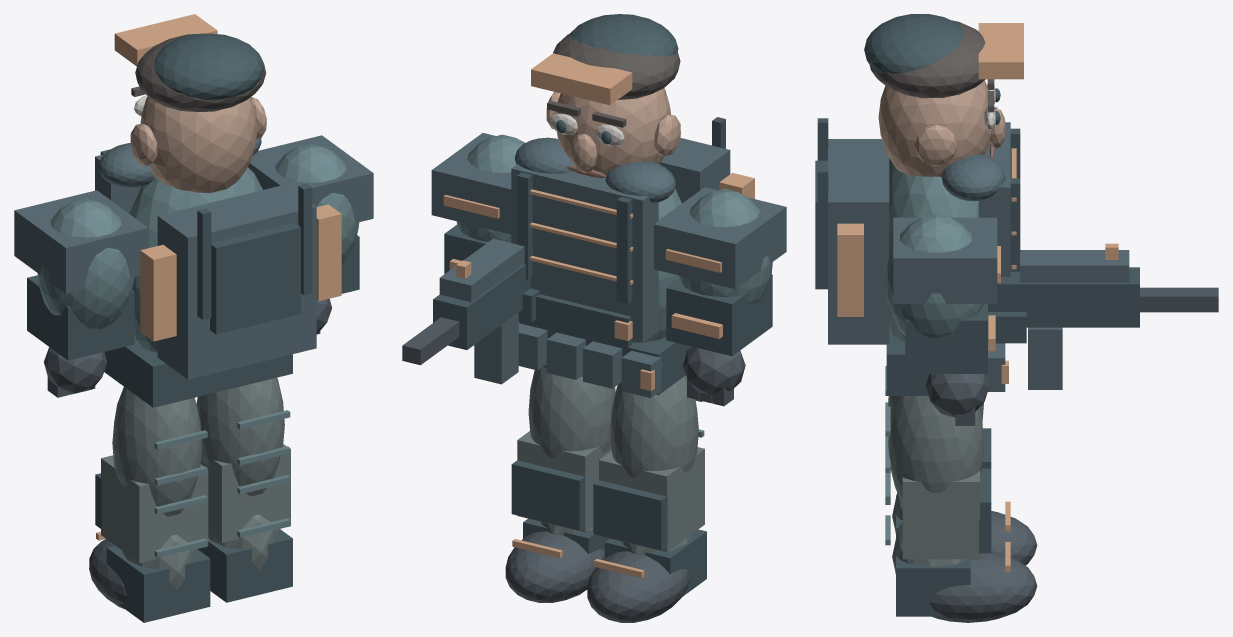
File: rift.glb
3 renders of one model, left to right at view 1: azimuth 30°, elevation 25°; view 2: azimuth 150°, elevation 25°; view 3: azimuth 270°, elevation 25°, orthographic.
Visible parts, largest first — view 1: RigRoot_Model, LeftLegPivot_Model, HeadPivot_Model, LeftArmPivot_Model, RightLegPivot_Model, RightArmPivot_Model; view 2: RigRoot_Model, LeftLegPivot_Model, LeftArmPivot_Model, RightLegPivot_Model, HeadPivot_Model, RightArmPivot_Model; view 3: RigRoot_Model, RightLegPivot_Model, HeadPivot_Model, RightArmPivot_Model, LeftLegPivot_Model.
Boxes of the visible parts, bbox=[...] form: RigRoot_Model: bbox=[95, 138, 341, 407]; LeftLegPivot_Model: bbox=[89, 387, 210, 622]; HeadPivot_Model: bbox=[114, 14, 266, 193]; LeftArmPivot_Model: bbox=[14, 190, 148, 397]; RightLegPivot_Model: bbox=[196, 377, 292, 602]; RightArmPivot_Model: bbox=[248, 135, 373, 334]; RigRoot_Model: bbox=[402, 117, 754, 397]; LeftLegPivot_Model: bbox=[587, 375, 706, 622]; LeftArmPivot_Model: bbox=[654, 187, 786, 406]; RightLegPivot_Model: bbox=[505, 367, 615, 602]; HeadPivot_Model: bbox=[531, 14, 680, 177]; RightArmPivot_Model: bbox=[431, 133, 524, 322]; RigRoot_Model: bbox=[815, 118, 1218, 395]; RightLegPivot_Model: bbox=[885, 396, 1037, 622]; HeadPivot_Model: bbox=[864, 14, 1023, 176]; RightArmPivot_Model: bbox=[885, 214, 1000, 425]; LeftLegPivot_Model: bbox=[885, 366, 1037, 565].
Size of the model in its own units: 1.35 by 2.37 by 1.51.
